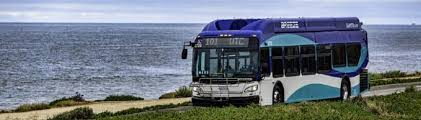bus: (180, 15, 370, 108)
